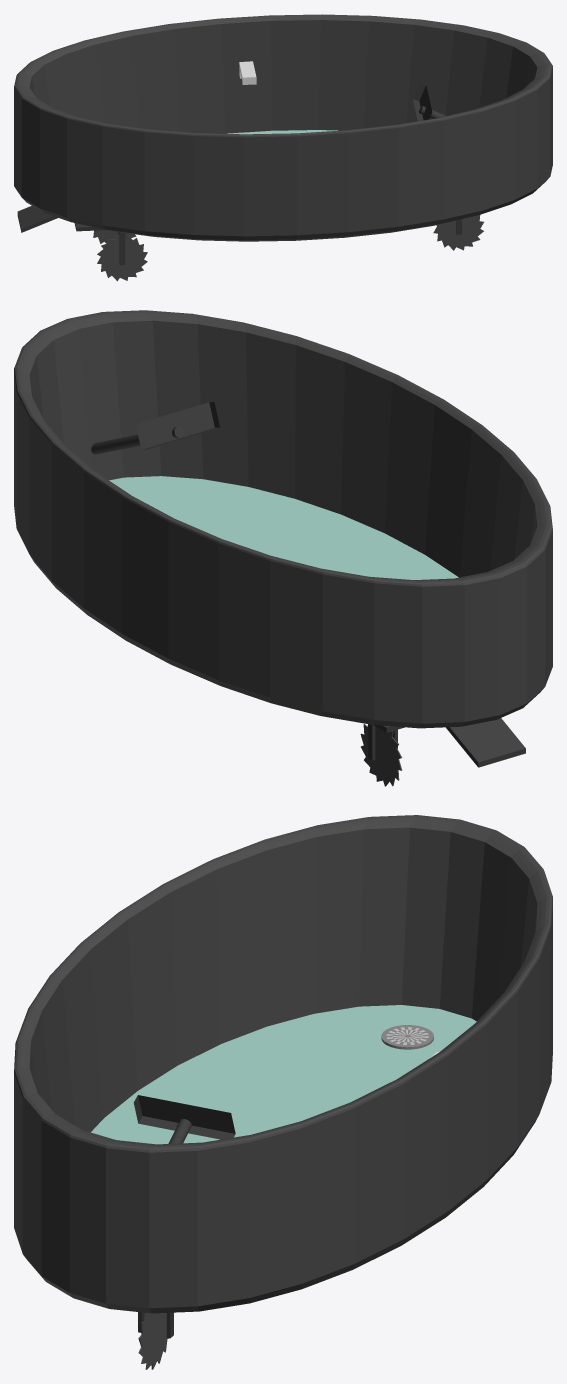
The model's file is bathsaw.gltf.
3 renders of one model, top to bottom at view 1: azimuth 30°, elevation 25°; view 2: azimuth 150°, elevation 25°; view 3: azimuth 270°, elevation 25°, orthographic. The views are drawn at different scales.
Visible parts, largest first — view 1: Cube.039; view 2: Cube.039; view 3: Cube.039.
Boxes of the visible parts, left/top/right/bottom form: Cube.039: left=14, top=14, right=552, bottom=281; Cube.039: left=14, top=310, right=552, bottom=786; Cube.039: left=14, top=815, right=552, bottom=1369.
Size of the model in its own units: 10.93 by 4.27 by 7.41.
